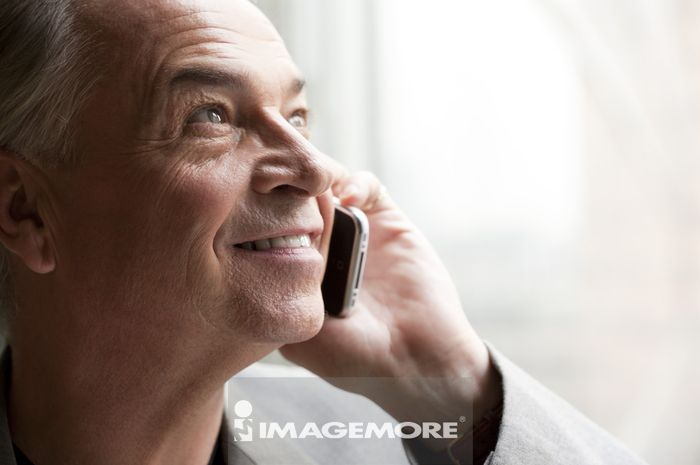talk: (138, 52, 459, 402)
